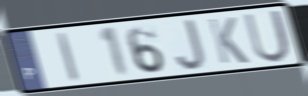1: (99, 24, 129, 80)
6: (124, 24, 166, 75)
I: (55, 30, 82, 84)
J: (173, 16, 207, 72)
K: (205, 15, 251, 66)
U: (241, 7, 293, 65)
